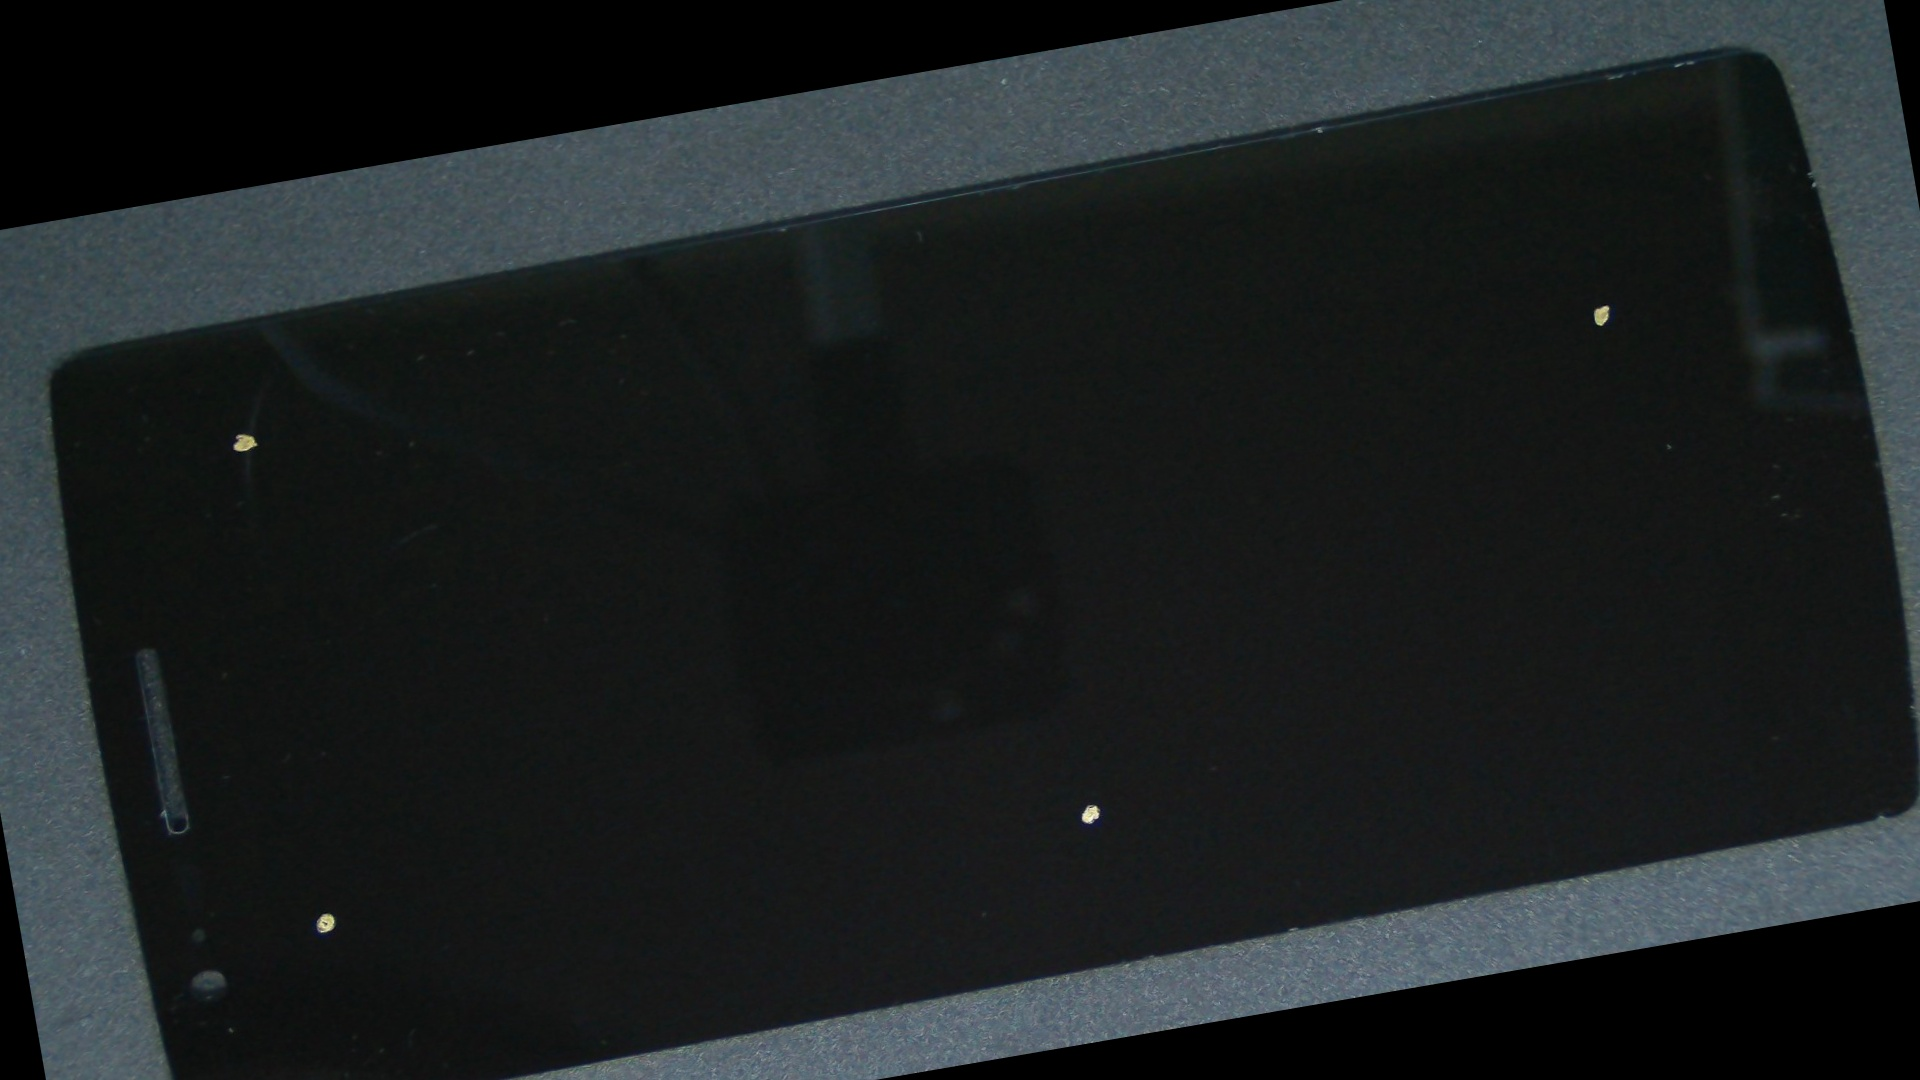oil: (496, 344, 1652, 1080), (750, 79, 1920, 615), (115, 526, 512, 1080), (71, 289, 402, 578)
